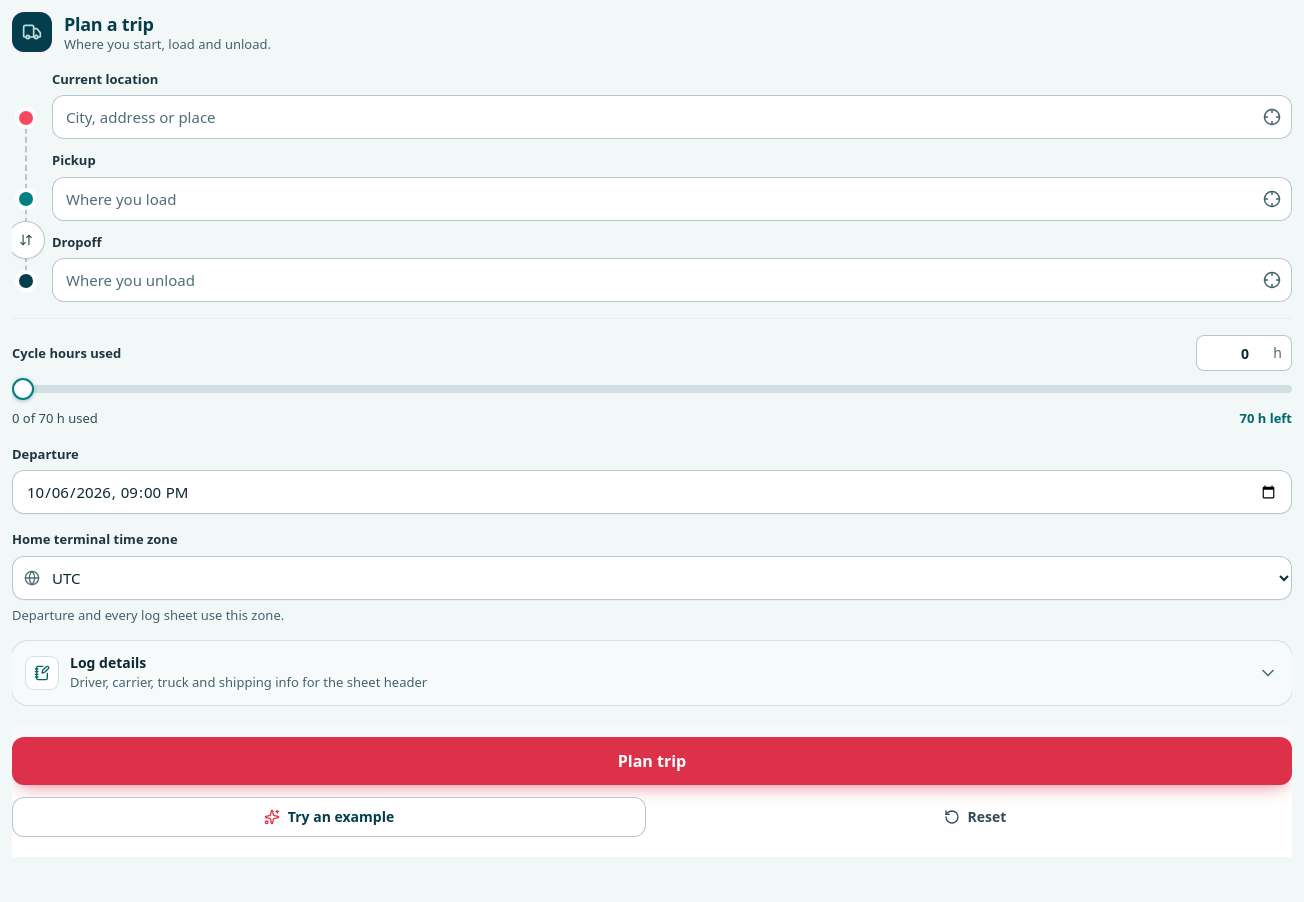
Test: TripForm › example trip › fills Dallas, Memphis and Denver with 24 hours used
Click the button with test id "btn-example". click: (329, 817)
box: [12, 797, 646, 837]
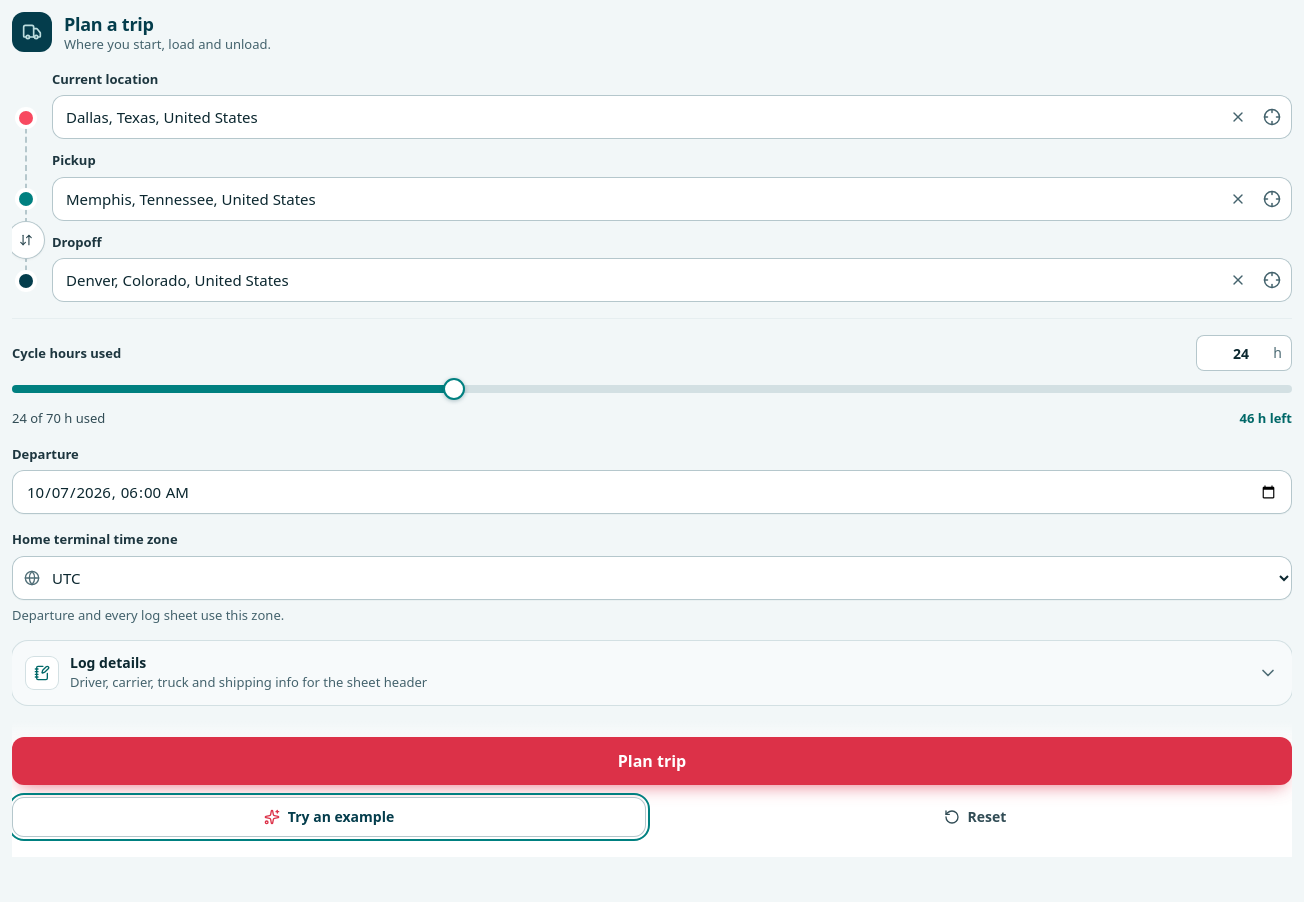
Now the dropdown with test id "field-current" holds "Dallas, Texas, United States", box [52, 95, 1292, 139]
Now the number field with test id "input-cycle" holds "24", box [1196, 335, 1292, 371]
